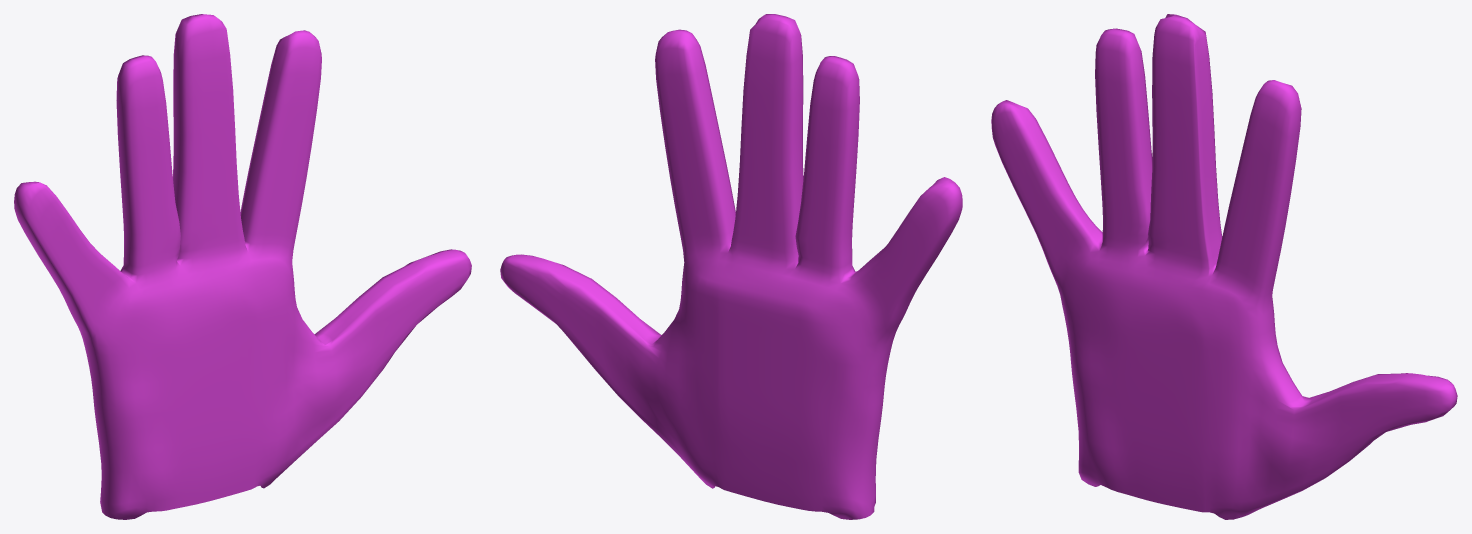
The model's file is hand2pink.glb.
The picture shows the model from 3 angles, left to right: view 1: azimuth 30°, elevation 25°; view 2: azimuth 150°, elevation 25°; view 3: azimuth 330°, elevation 25°; orthographic projection.
Parts seen in each view (by area): view 1: Cube; view 2: Cube; view 3: Cube.
Boxes of the visible parts, x1=… form: Cube: x1=14, y1=14, x2=471, y2=519; Cube: x1=500, y1=14, x2=962, y2=519; Cube: x1=991, y1=14, x2=1457, y2=519.
Size of the model in its own units: 6.77 by 6.82 by 0.9034.
